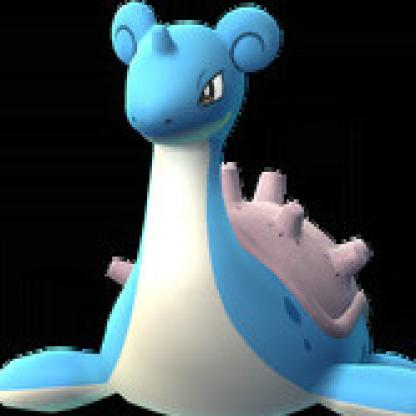Lapras: (1, 1, 415, 415)
